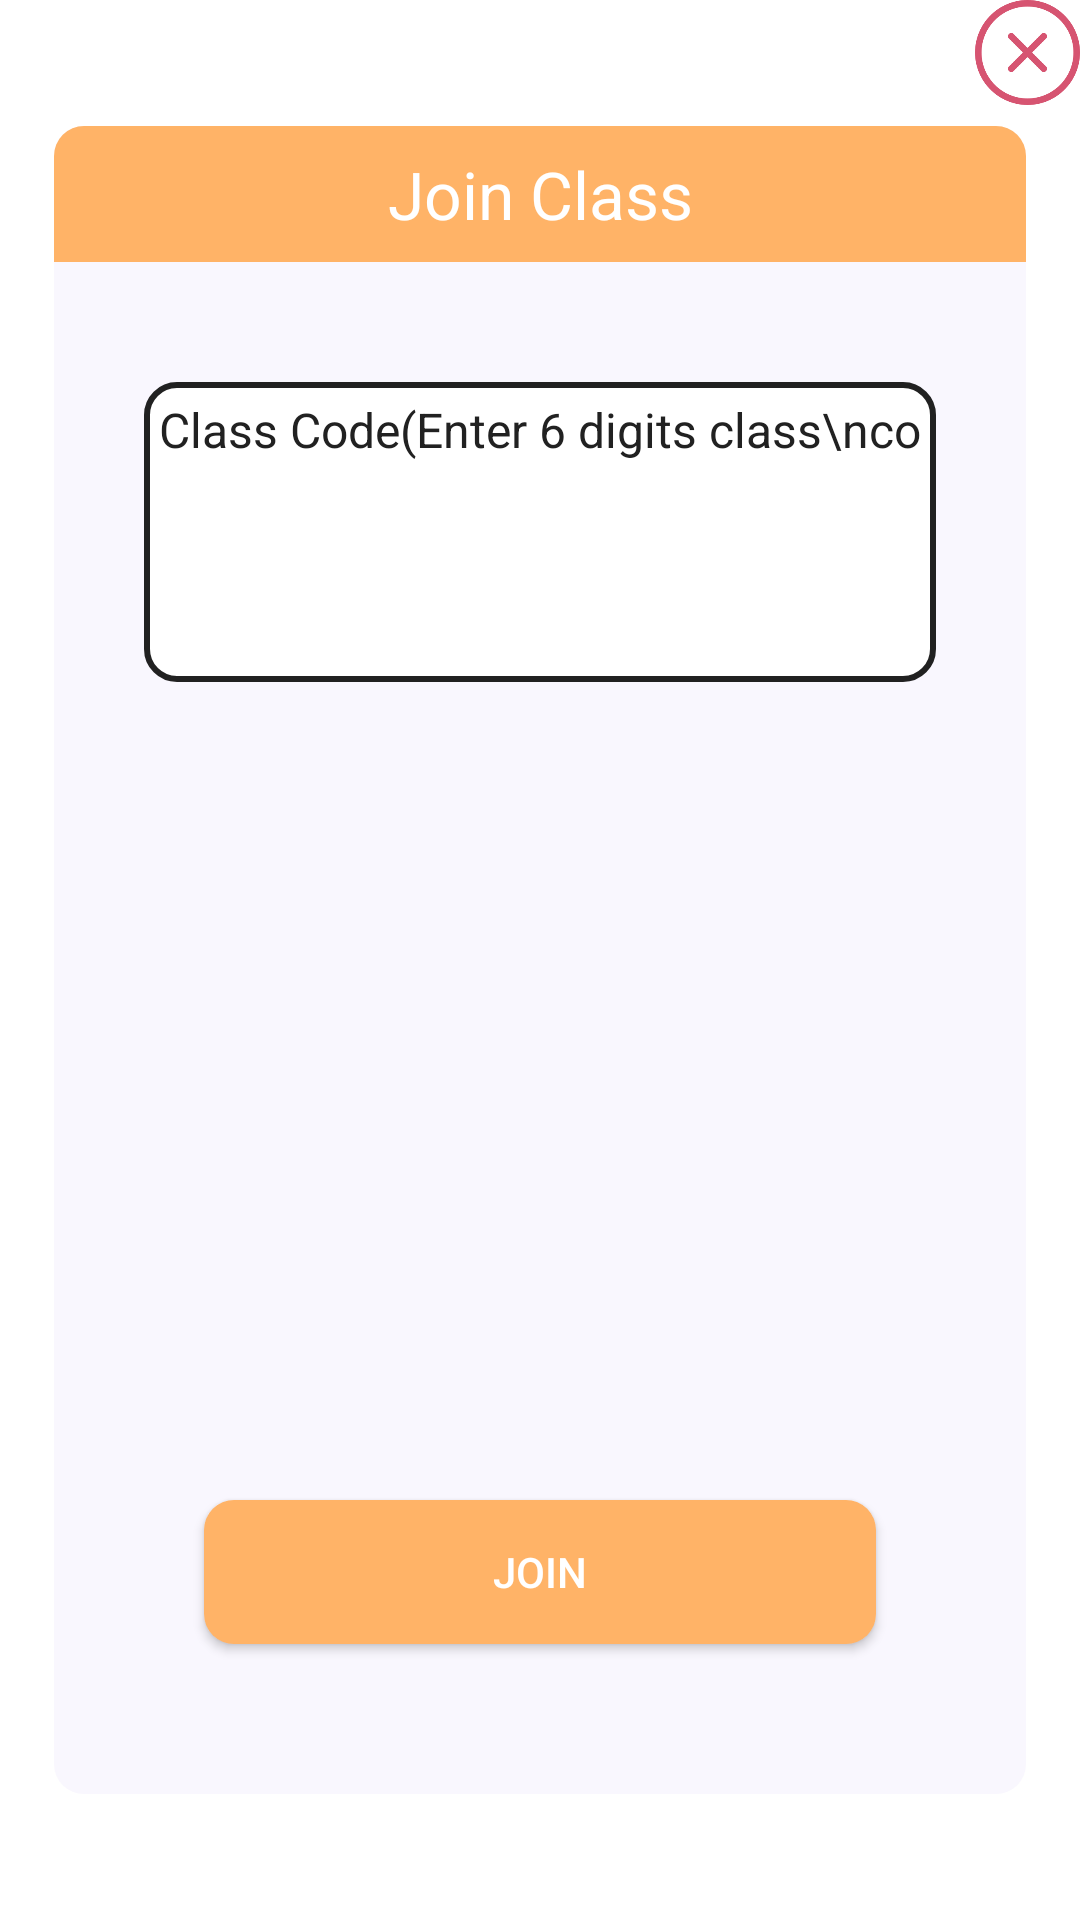

Locate icon controls on the screen. Image size 1080w x 1920h, boxes as (x1, y1, x2, y2).
remove: (975, 0, 1080, 105)
